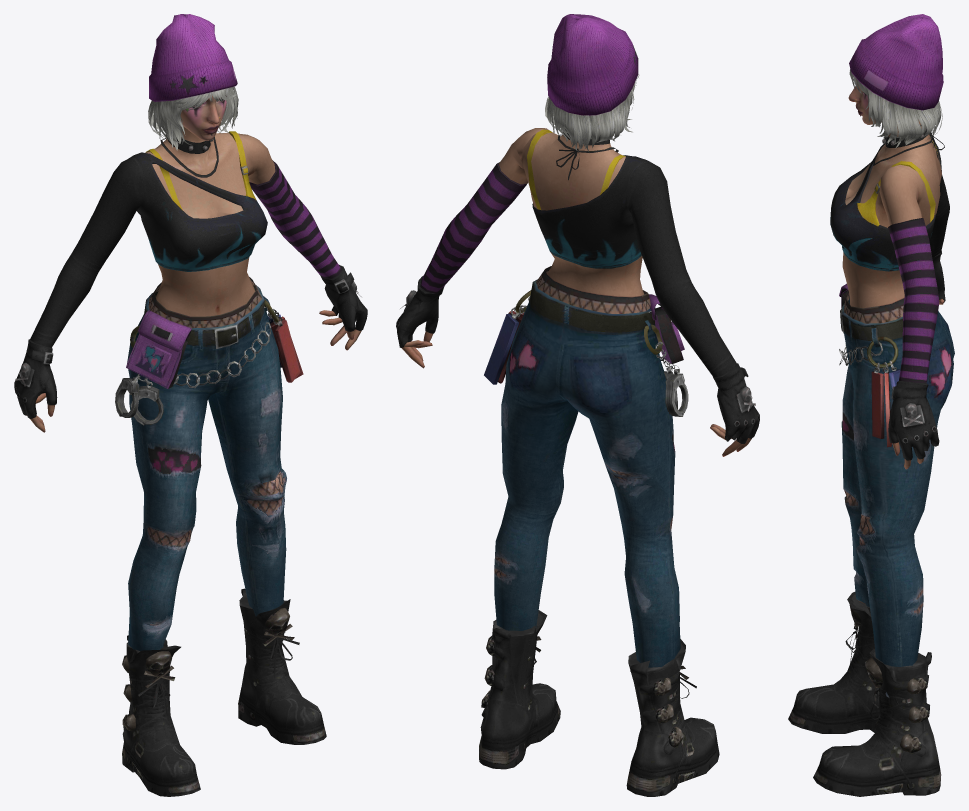
Rendered from glb-5.glb.
3 renders of one model, left to right at view 1: azimuth 30°, elevation 25°; view 2: azimuth 150°, elevation 25°; view 3: azimuth 270°, elevation 25°, orthographic. The views are drawn at different scales.
Visible parts, largest first — view 1: Object_3, Object_7, Object_6, Object_2, Object_4, Object_5; view 2: Object_3, Object_7, Object_6, Object_2, Object_4, Object_5; view 3: Object_3, Object_6, Object_7, Object_2, Object_4, Object_5.
Boxes of the visible parts, x1,y1,x2,y2 form: Object_3: [115, 277, 303, 650]; Object_7: [14, 131, 367, 418]; Object_6: [122, 588, 326, 796]; Object_2: [26, 95, 361, 432]; Object_4: [149, 14, 237, 101]; Object_5: [148, 86, 238, 150]; Object_3: [484, 266, 688, 667]; Object_7: [396, 129, 759, 443]; Object_6: [479, 610, 719, 796]; Object_2: [401, 128, 751, 456]; Object_4: [547, 14, 638, 115]; Object_5: [545, 74, 639, 152]; Object_3: [839, 283, 954, 697]; Object_6: [788, 592, 941, 796]; Object_7: [830, 128, 949, 460]; Object_2: [842, 79, 944, 604]; Object_4: [849, 14, 943, 110]; Object_5: [849, 69, 942, 148].
Size of the model in its own units: 3.87 by 7.89 by 1.61.
6 materials, 6 textured.
